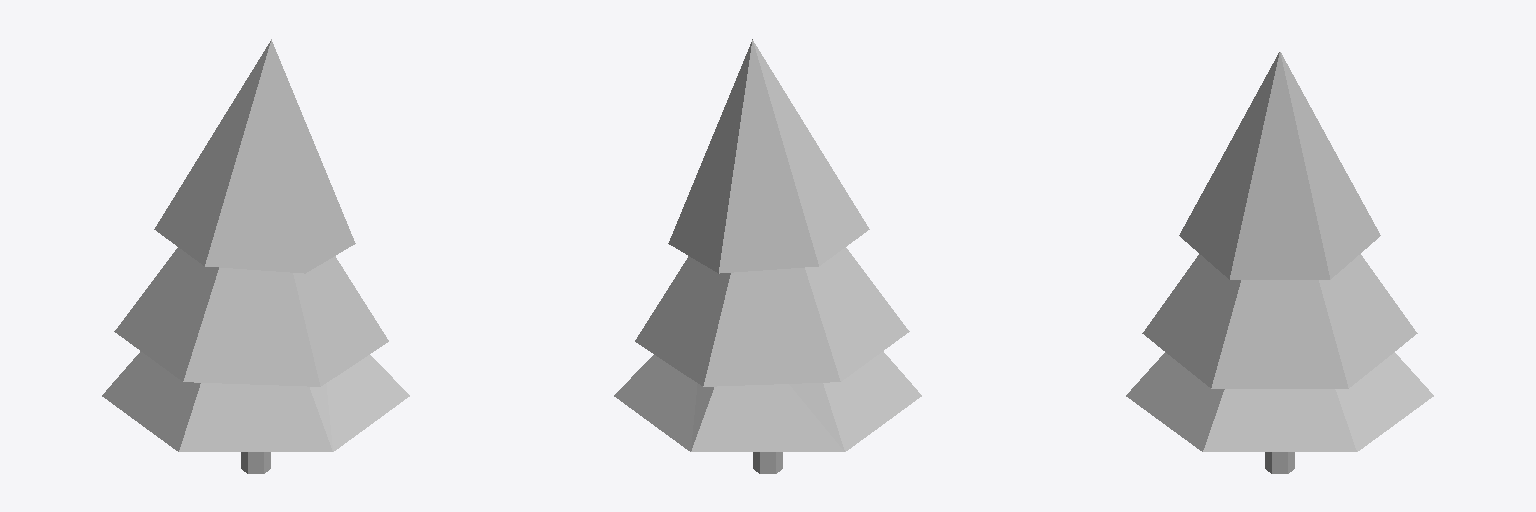
The picture shows the model from 3 angles: view 1: azimuth 30°, elevation 25°; view 2: azimuth 150°, elevation 25°; view 3: azimuth 270°, elevation 25°; orthographic projection.
Visible parts, largest first — view 1: Tree_Type1_03_mesh; view 2: Tree_Type1_03_mesh; view 3: Tree_Type1_03_mesh.
Boxes of the visible parts, <box> form: Tree_Type1_03_mesh: <box>102,39,409,473</box>; Tree_Type1_03_mesh: <box>614,39,921,473</box>; Tree_Type1_03_mesh: <box>1126,52,1433,473</box>.
Size of the model in its own units: 1.75 by 3.07 by 2.02.